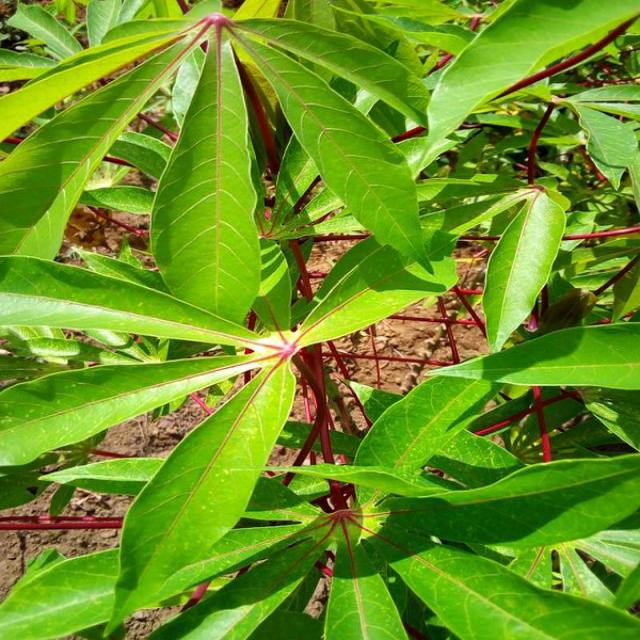cassava leaf: (1, 0, 638, 638), (101, 352, 296, 636), (148, 25, 262, 328), (480, 186, 566, 354)
